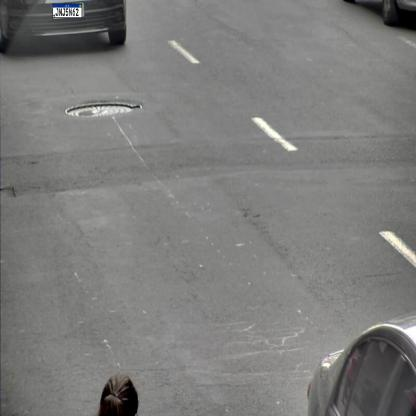PlacaM: (53, 3, 82, 18)
